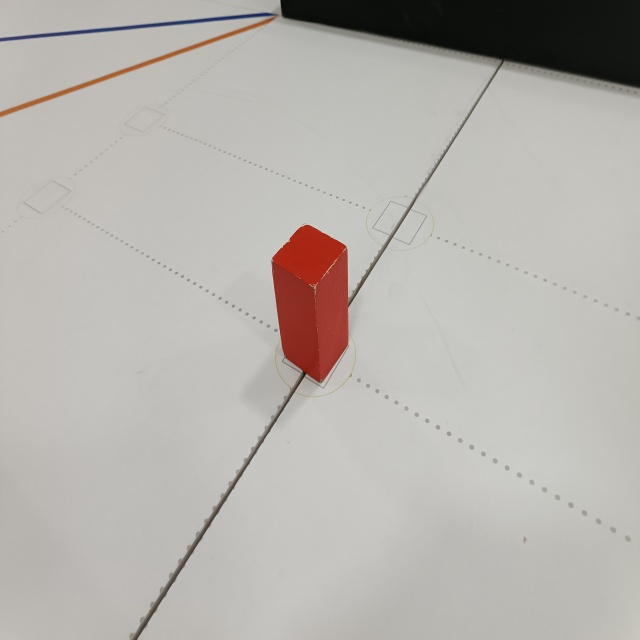blue line: (1, 12, 279, 46)
orange line: (0, 13, 276, 123)
red rectangular prism: (269, 219, 353, 388)
